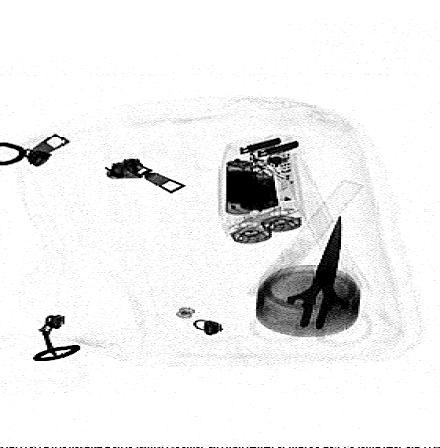Scissors: (248, 211, 374, 348)
